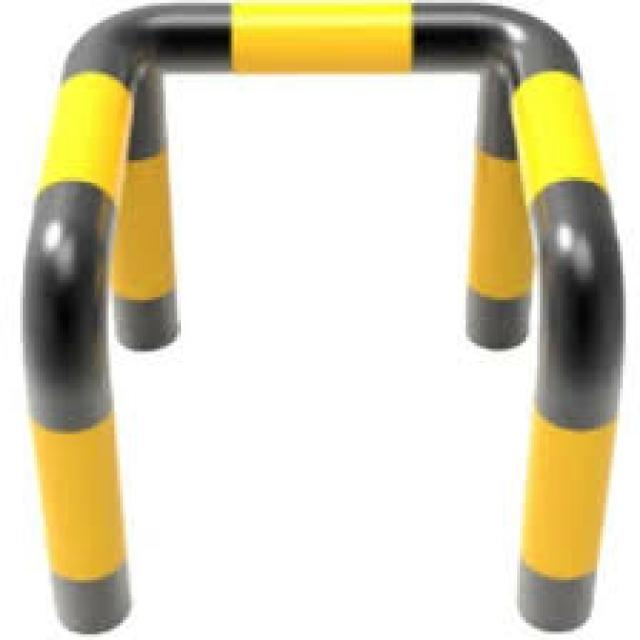bollard: (11, 0, 629, 633)
